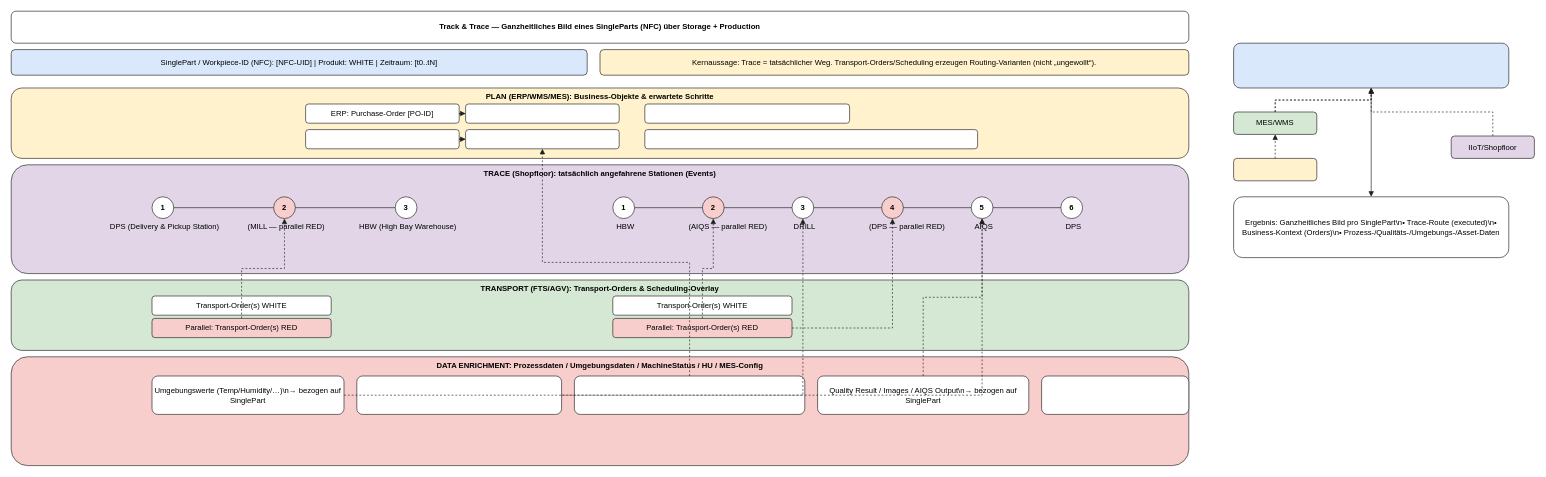
Some shapes in this 1546 by 477 pixel diagram are drawn without their labels. Each missing label, with the centre of its shape:
"ERP" belongs at point (1275, 169).
"ERP: Customer-Order [CO-ID]" belongs at point (382, 139).
"Expected (WHITE): DPS → HBW" belongs at point (747, 113).
"Expected (WHITE): HBW → DRILL → AIQS → DPS" belongs at point (811, 139).
"HU/Container Events (optional)\n→ HU enthält SingleParts" belongs at point (1115, 394).
"MachineStatus / Errors / OEE\n→ bezogen auf Asset (z.B. DRILL)" belongs at point (459, 394).
"MES/WMS Config: Routing, Device-Params,\nHU-Masterdata (nicht im ERP)" belongs at point (689, 394).
"MES: Production-Order [PROD-ID]" belongs at point (542, 139).
"ORBIS DSP\nKorrelation + Enrichment\nJoin-Key = NFC / Workpiece-ID" belongs at point (1371, 65).
"WMS: Storage-Order [SO-ID]" belongs at point (542, 113).
